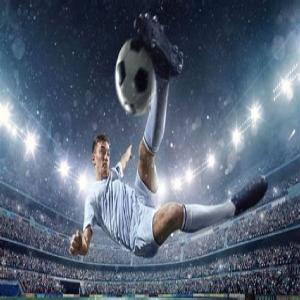Football: (116, 38, 156, 116)
